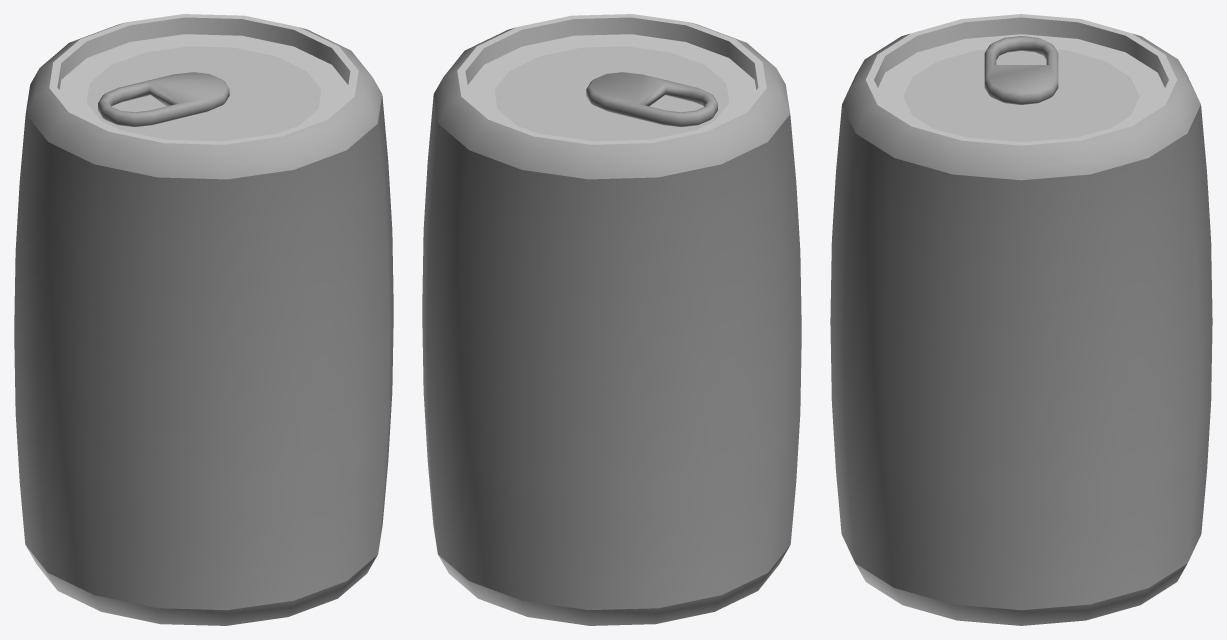
The model's file is Coke_V1_02.fbx.
3 renders of one model, left to right at view 1: azimuth 30°, elevation 25°; view 2: azimuth 150°, elevation 25°; view 3: azimuth 270°, elevation 25°, orthographic.
Parts seen in each view (by area): view 1: Coke_V1_02; view 2: Coke_V1_02; view 3: Coke_V1_02.
Part boxes in pixels (left/top/right/bottom): Coke_V1_02: left=14, top=14, right=393, bottom=625; Coke_V1_02: left=422, top=14, right=801, bottom=625; Coke_V1_02: left=830, top=14, right=1212, bottom=625.
Bounding box in the file's own units: 22.07 × 30.74 × 22.07.
